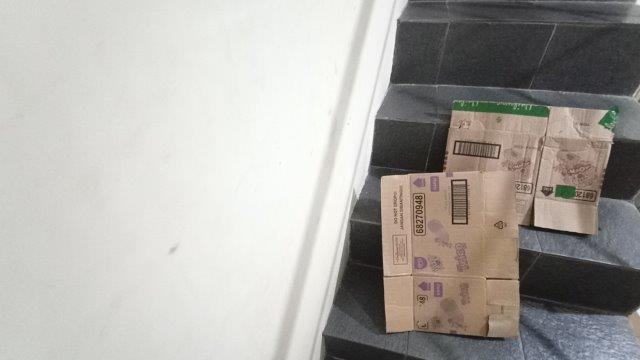kardus: (381, 173, 518, 337), (446, 101, 613, 232)
